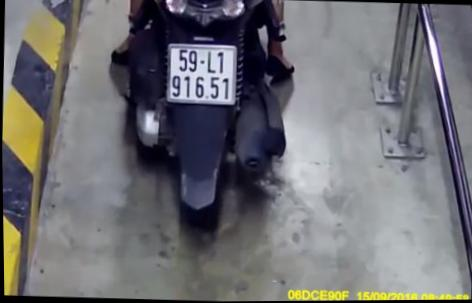LP: (163, 41, 239, 108)
